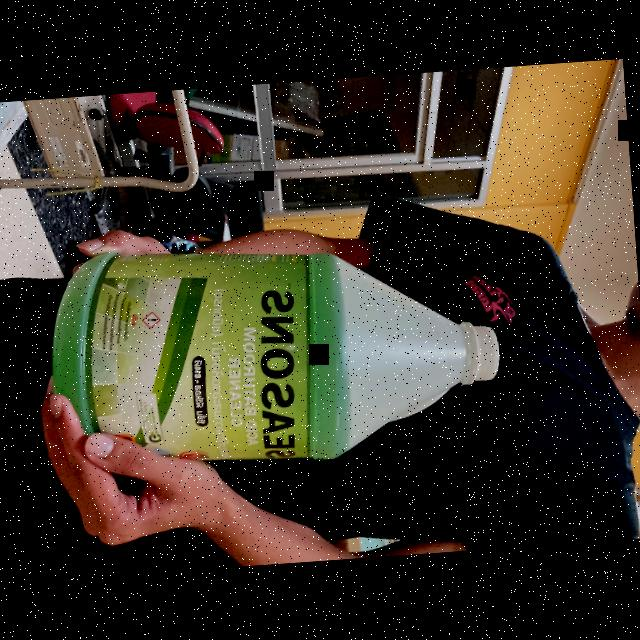chemical_plastic_gallon: (42, 224, 508, 482)
